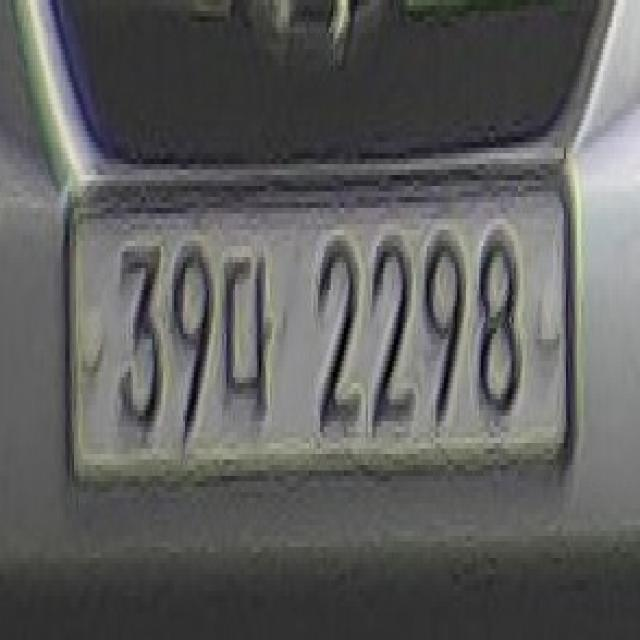2: (314, 224, 362, 432), (370, 224, 416, 438)
3: (116, 235, 166, 443)
8: (470, 218, 522, 426)
9: (422, 224, 464, 421), (172, 240, 213, 438)
da: (222, 246, 274, 416)
license_plate: (63, 164, 577, 498)
